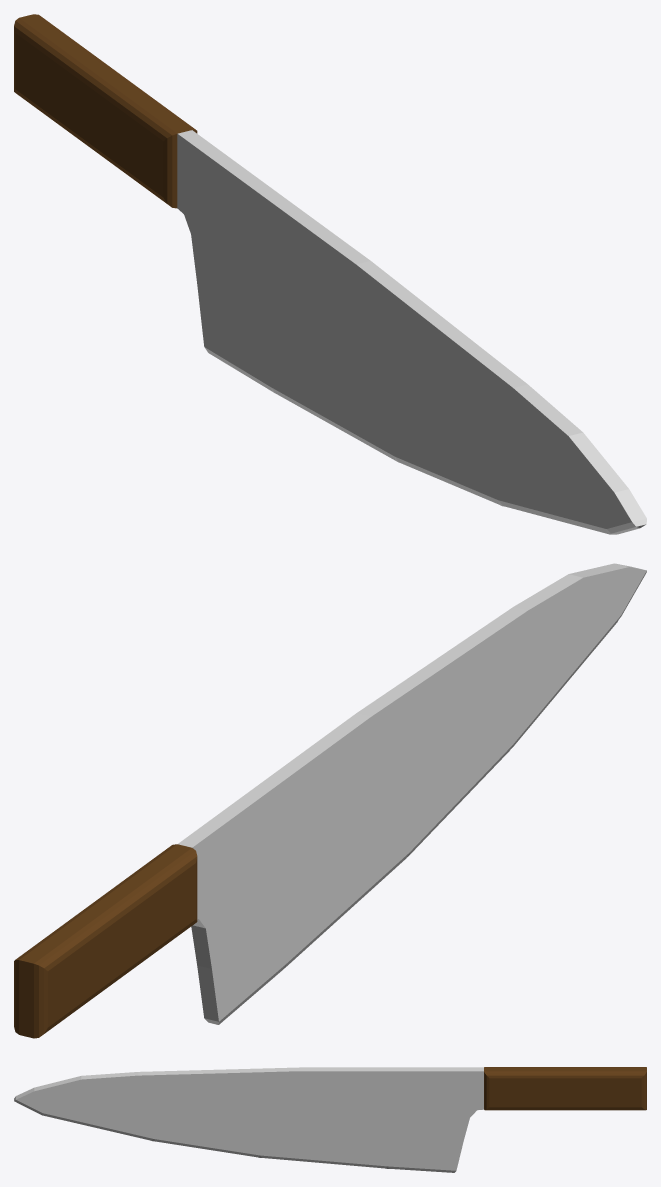
File: Knife_Center_Pivot.fbx
The picture shows the model from 3 angles, top to bottom: view 1: azimuth 30°, elevation 25°; view 2: azimuth 150°, elevation 25°; view 3: azimuth 270°, elevation 25°; orthographic projection. The views are drawn at different scales.
Parts seen in each view (by area): view 1: luoi dao; view 2: luoi dao; view 3: luoi dao.
Boxes of the visible parts, x1=… form: luoi dao: x1=14, y1=14, x2=646, y2=534; luoi dao: x1=14, y1=563, x2=646, y2=1038; luoi dao: x1=14, y1=1067, x2=646, y2=1172.
Size of the model in its own units: 2.31 by 13.63 by 75.72.
